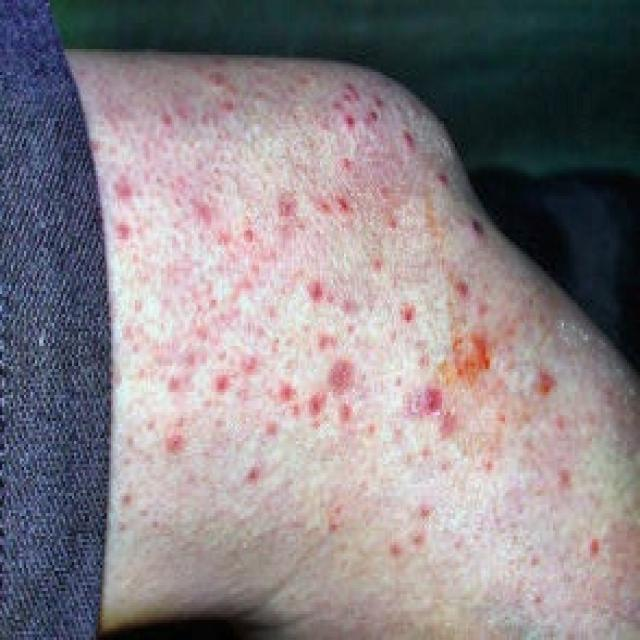Psoriasis-pictures-Lichen-Planus: (98, 59, 565, 569)
